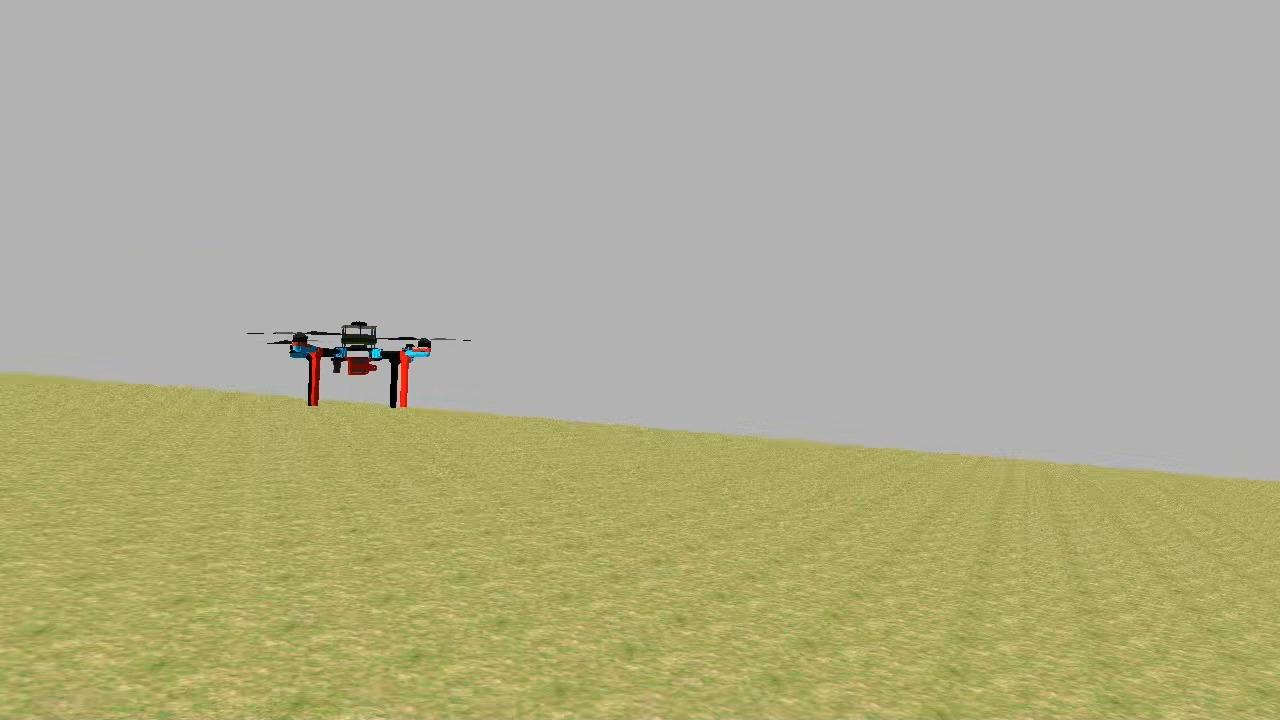UAV: (280, 313, 439, 417)
